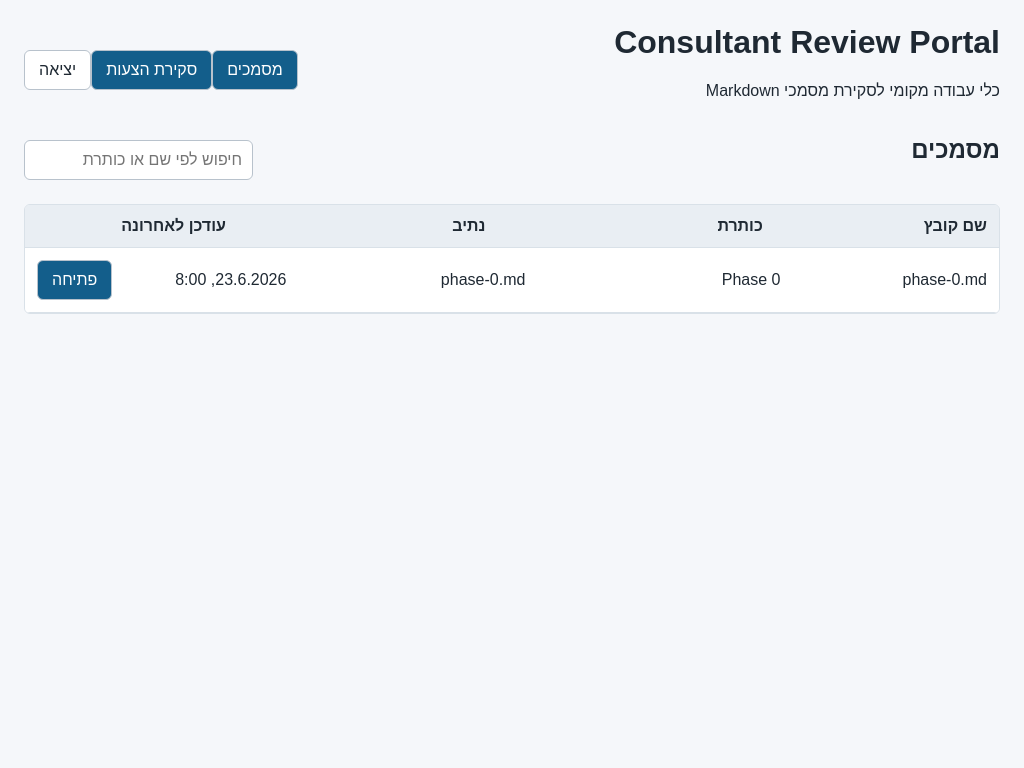
App › validates the suggestion form
What coordinates should you click on to do the following:
click the button "פתיחה"
I would click on:
 (75, 280)
Its box is [37,260,112,300].
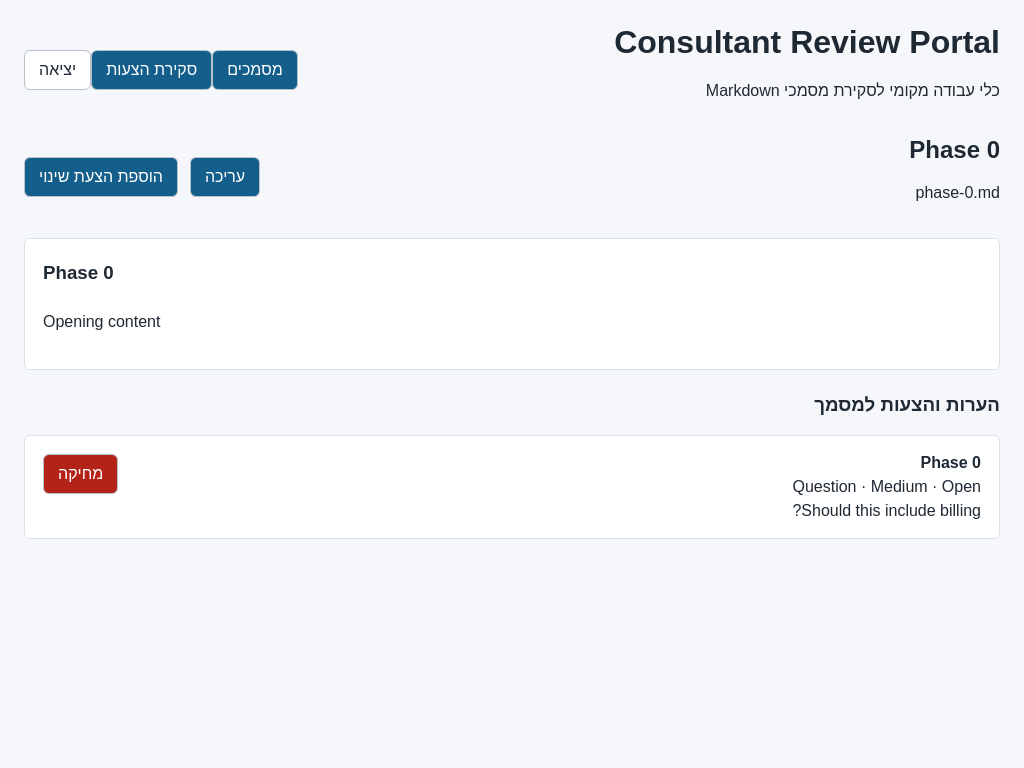
What coordinates should you click on to do the following:
click the button "הוספת הצעת שינוי"
I would click on:
 (101, 177)
Its box is [24,157,178,197].
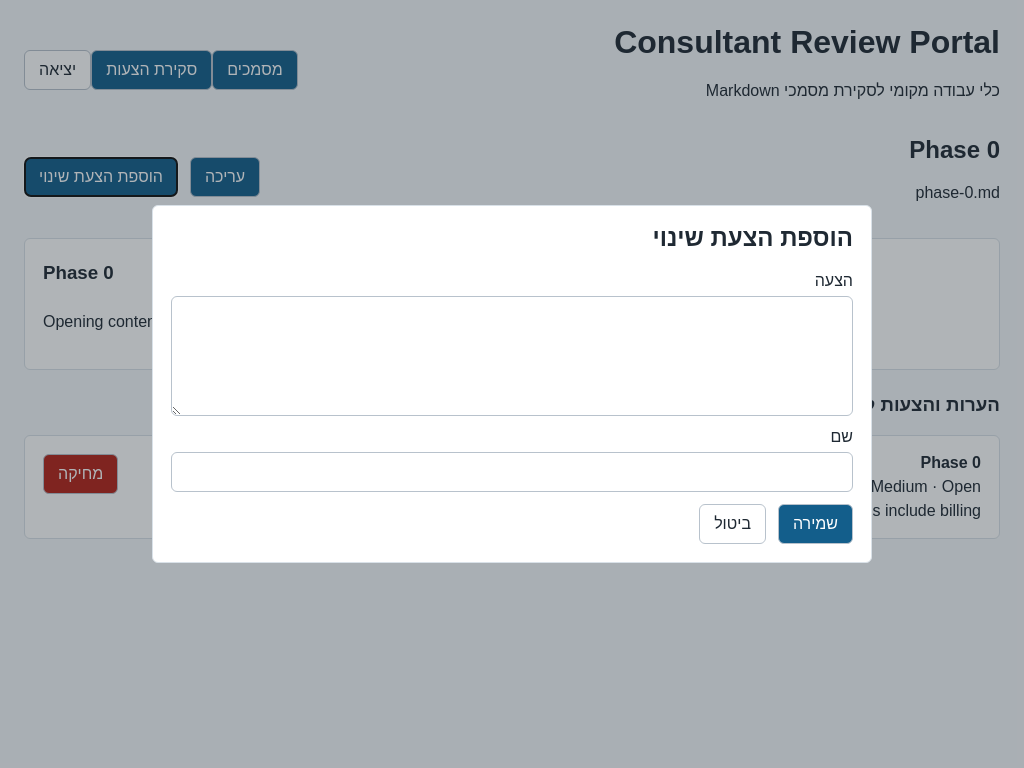
What coordinates should you click on to do the following:
click the button "שמירה"
I would click on:
 (816, 524)
Its box is [778,504,853,544].
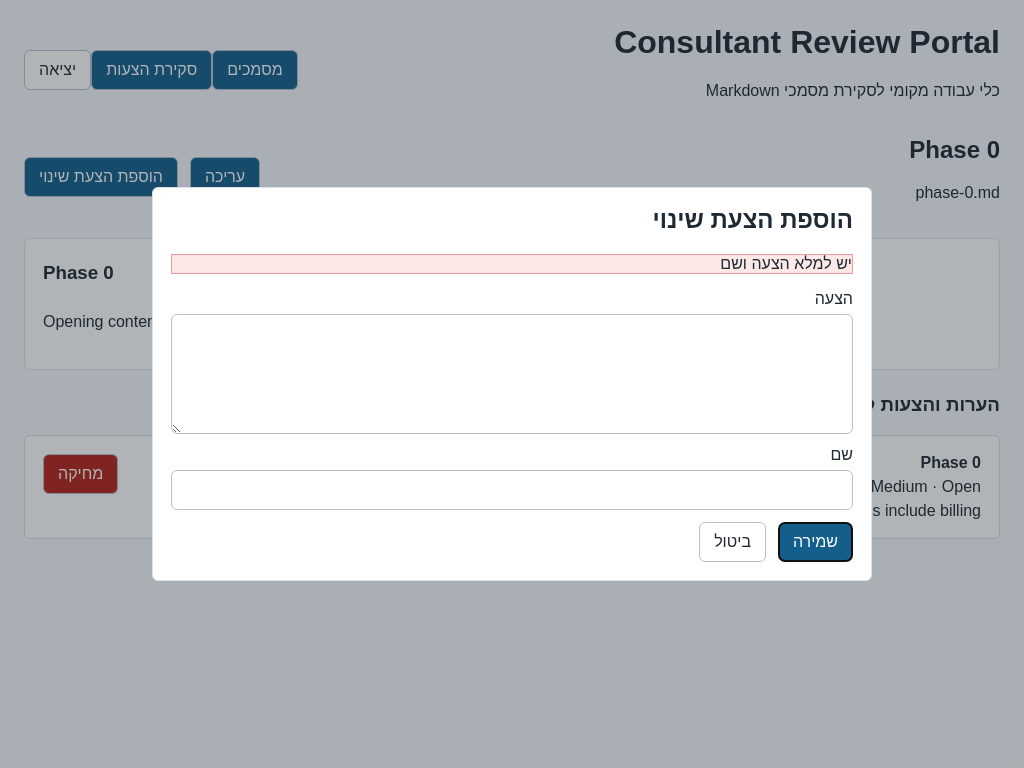
Now the text "יש למלא הצעה ושם" is shown, box [171,254,853,274]
